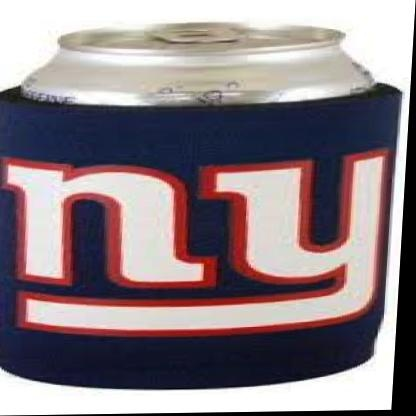trash: (0, 23, 401, 408)
